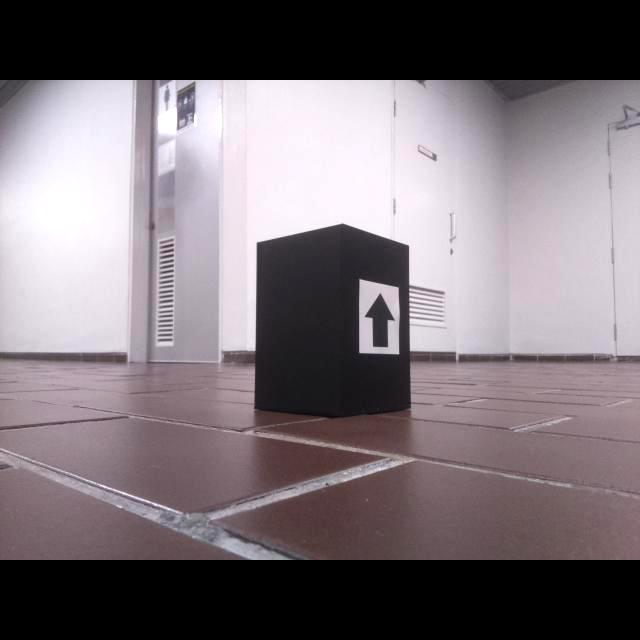UP: (363, 292, 397, 348)
